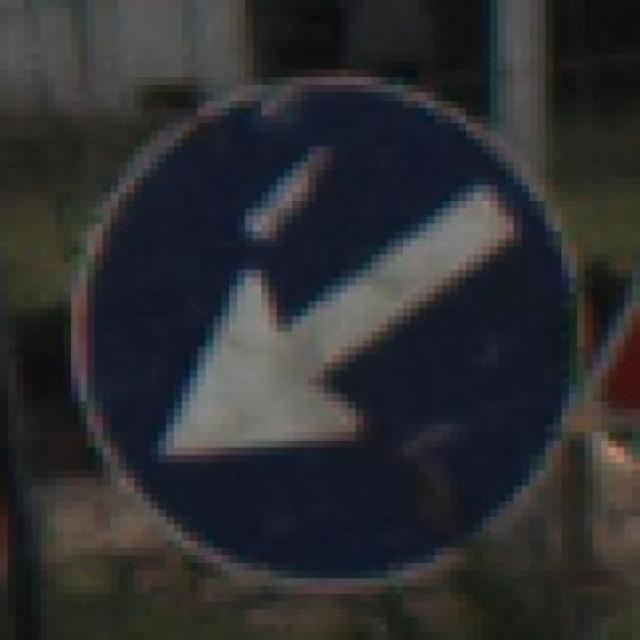Keep-Left: (63, 39, 592, 602)
